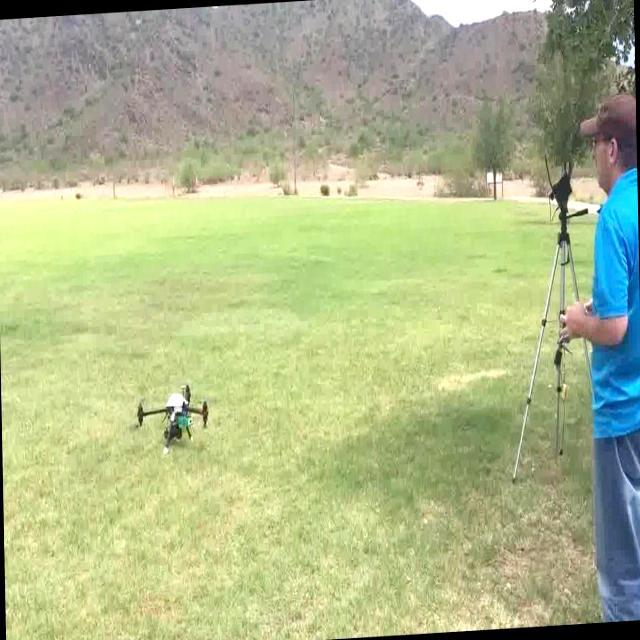drone: (137, 382, 212, 459)
